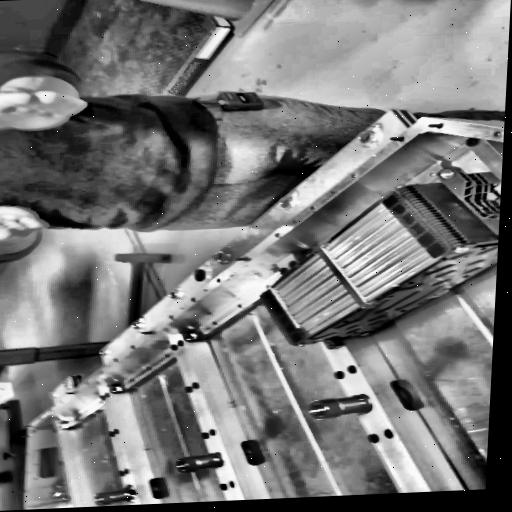battery_module: (259, 182, 469, 346)
